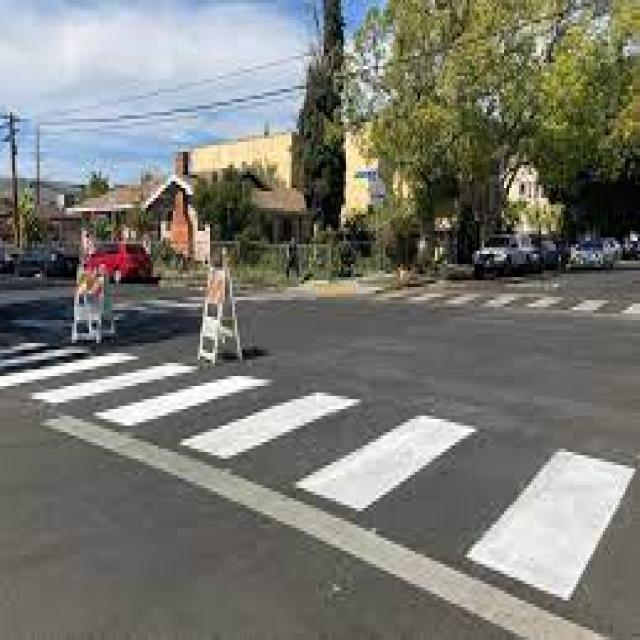Crosswalk: (0, 335, 640, 639)
